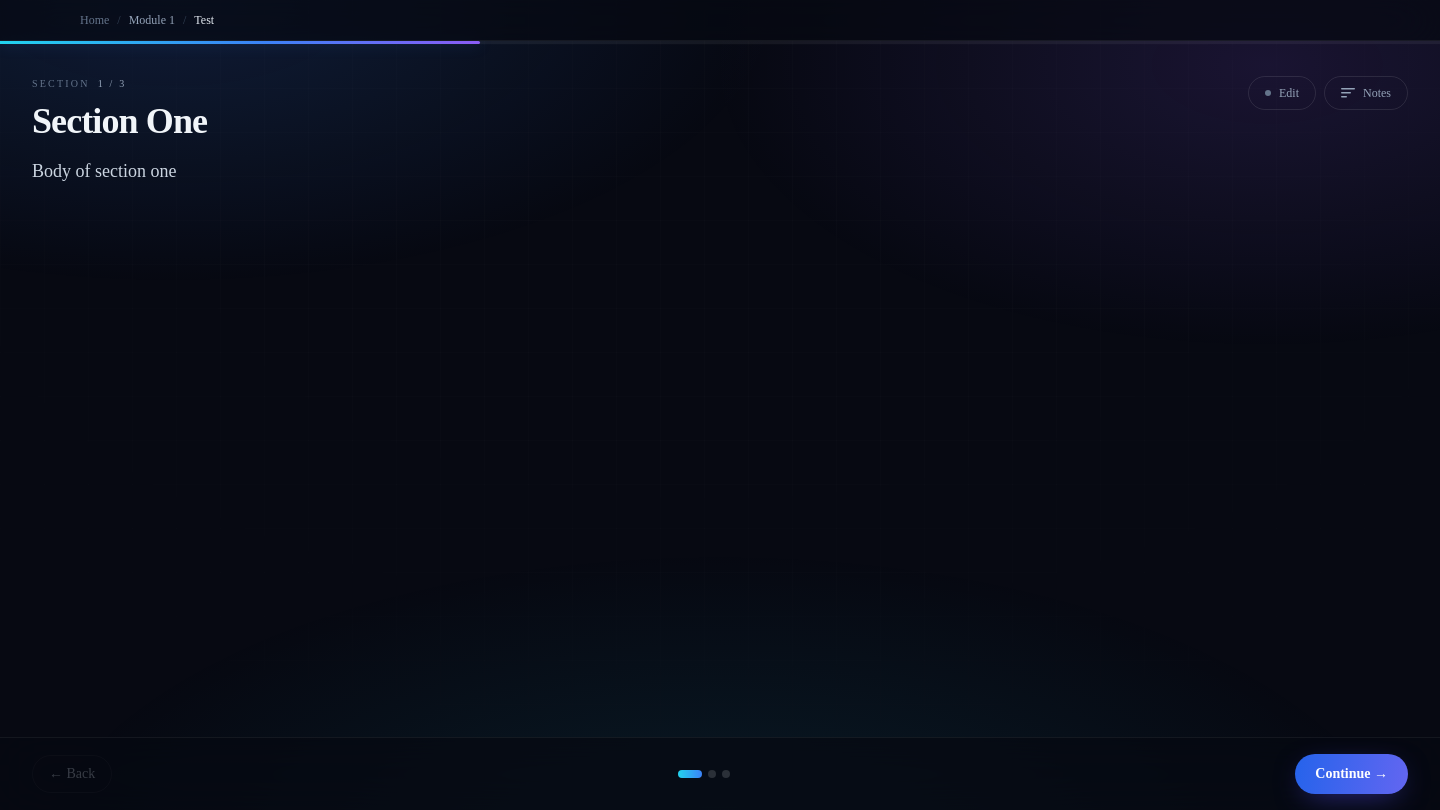
Test: Continue advances to next section
Click the button "Continue →": (1352,774) [1295,754,1408,794]
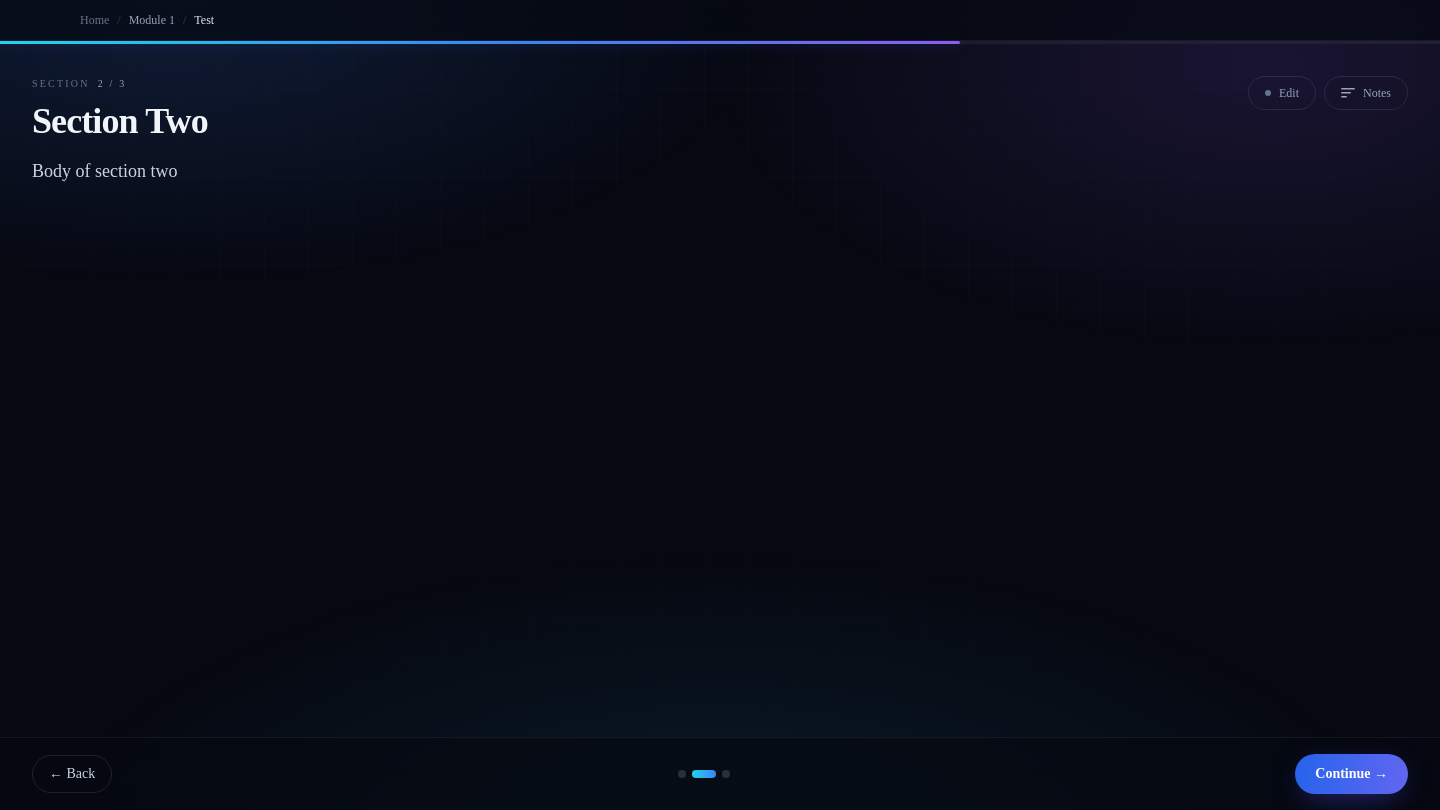
expect the heading "Section Two" is shown: met, box [32,101,208,141]
